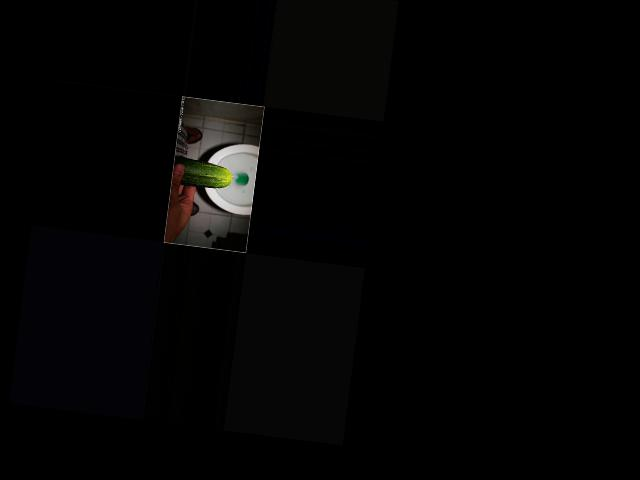cucumber: (170, 155, 233, 190)
